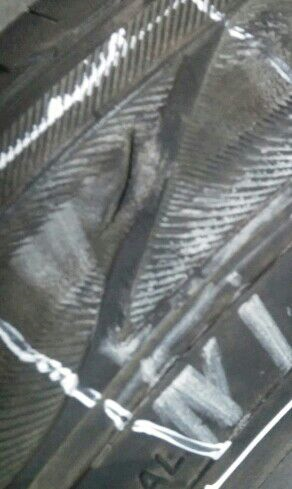cut: (108, 134, 139, 226)
